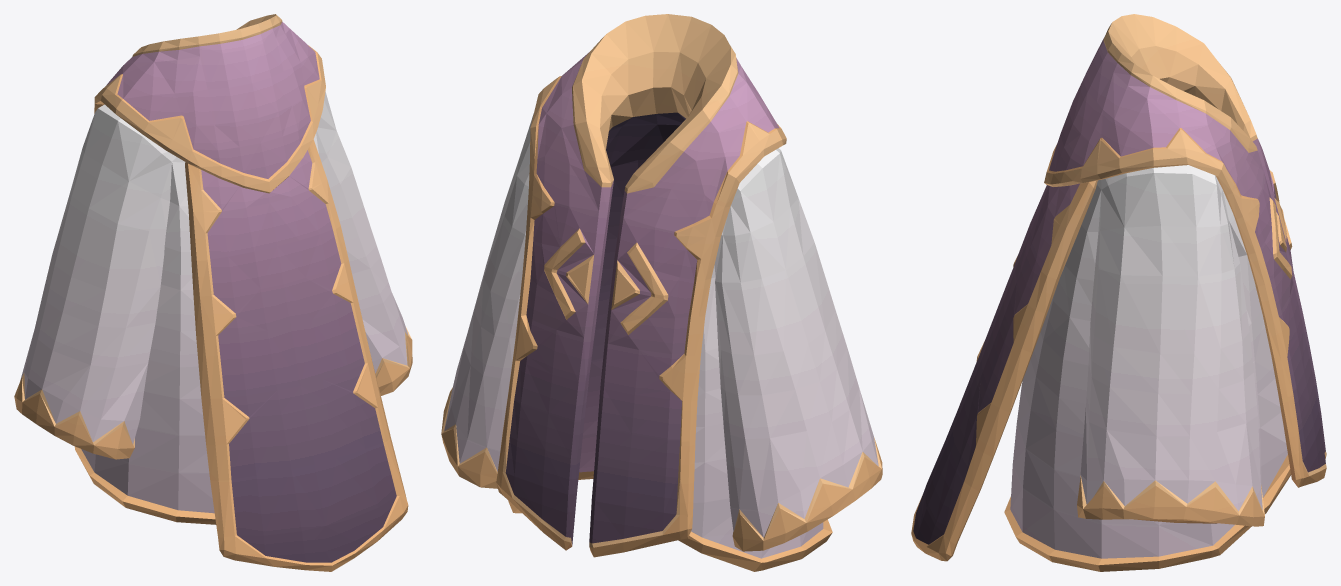
File: CharSkyKid_Wing_AP27NightElder.glb
3 views of the same model, side by side, from view 1: azimuth 30°, elevation 25°; view 2: azimuth 150°, elevation 25°; view 3: azimuth 270°, elevation 25° (orthographic). The views are drawn at different scales.
Visible parts, largest first — view 1: CharSkyKid_Wing_AP27NightElder; view 2: CharSkyKid_Wing_AP27NightElder; view 3: CharSkyKid_Wing_AP27NightElder.
Boxes of the visible parts, box(x1,y1,x2,y2) form: CharSkyKid_Wing_AP27NightElder: box(14, 14, 412, 571); CharSkyKid_Wing_AP27NightElder: box(441, 14, 882, 571); CharSkyKid_Wing_AP27NightElder: box(911, 14, 1326, 571).
Size of the model in its own units: 6.94 by 8.62 by 6.37.
Materials: 1 (1 with a texture image).
